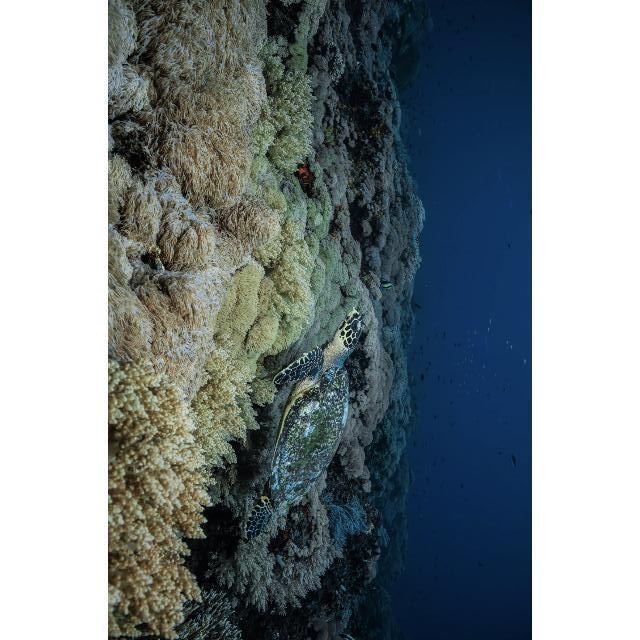turtle: (243, 308, 366, 539)
